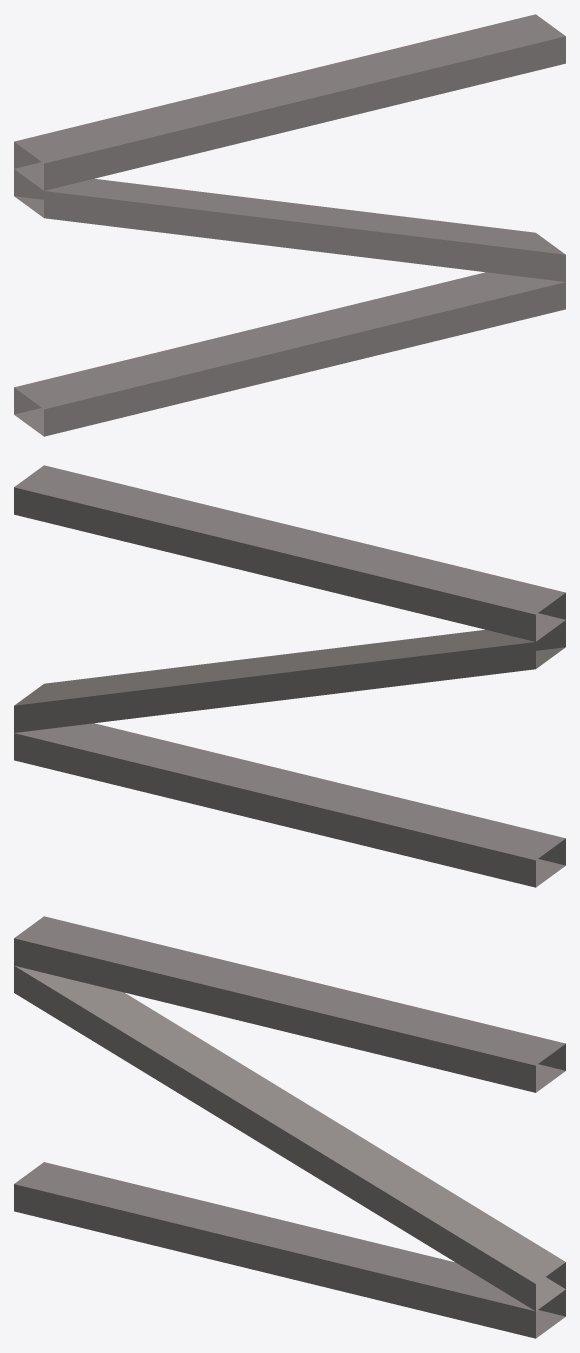
File: SM_Beam_Ceiling_200.fbx
The picture shows the model from 3 angles, top to bottom: view 1: azimuth 30°, elevation 25°; view 2: azimuth 150°, elevation 25°; view 3: azimuth 330°, elevation 25°; orthographic projection.
Visible parts, largest first — view 1: SM_Beam_Ceiling_200; view 2: SM_Beam_Ceiling_200; view 3: SM_Beam_Ceiling_200.
Part boxes in pixels (x1,y1,x2,y2): SM_Beam_Ceiling_200: (14,14,565,436); SM_Beam_Ceiling_200: (14,465,565,887); SM_Beam_Ceiling_200: (14,916,565,1338).
Bounding box in the file's own units: 200 × 100 × 20.
